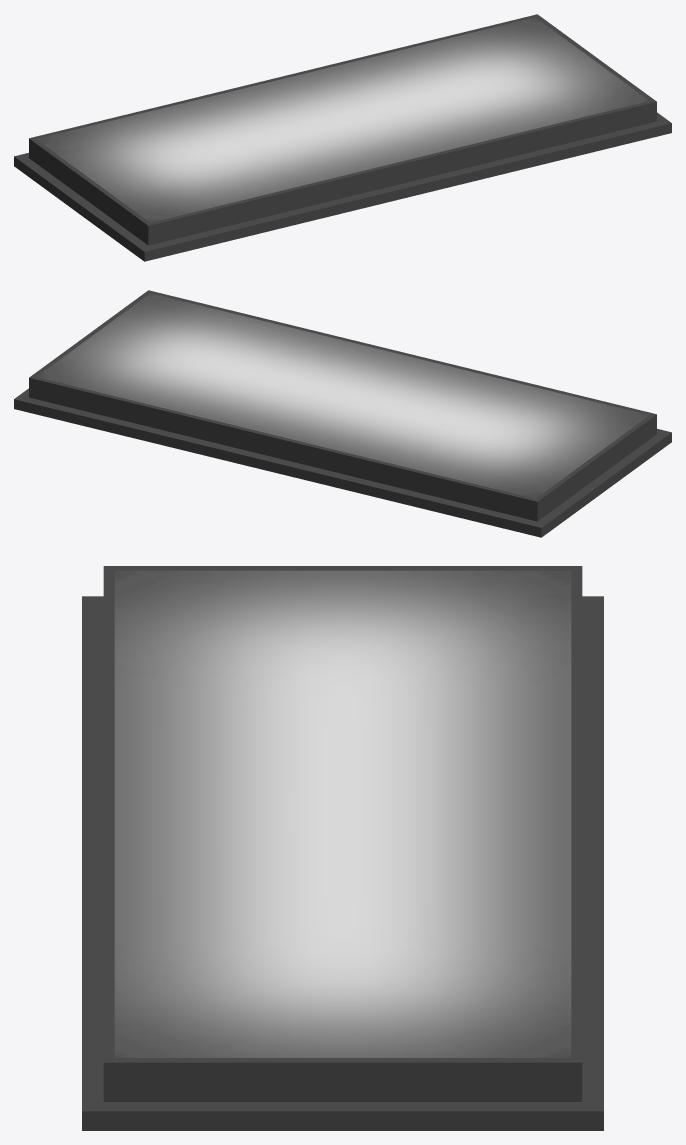
File: textindicator.obj
3 views of the same model, one above another, from view 1: azimuth 30°, elevation 25°; view 2: azimuth 150°, elevation 25°; view 3: azimuth 270°, elevation 25° (orthographic). The views are drawn at different scales.
Parts seen in each view (by area): view 1: Plane.001, Plane; view 2: Plane.001, Plane; view 3: Plane.001, Plane.
Boxes of the visible parts, x1=… form: Plane.001: x1=36, y1=17, x2=649, y2=222; Plane: x1=14, y1=14, x2=671, y2=261; Plane.001: x1=36, y1=293, x2=649, y2=498; Plane: x1=14, y1=290, x2=671, y2=537; Plane.001: x1=114, y1=570, x2=571, y2=1057; Plane: x1=82, y1=566, x2=603, y2=1130.
Bounding box in the file's own units: 7 × 0.375 × 3.
